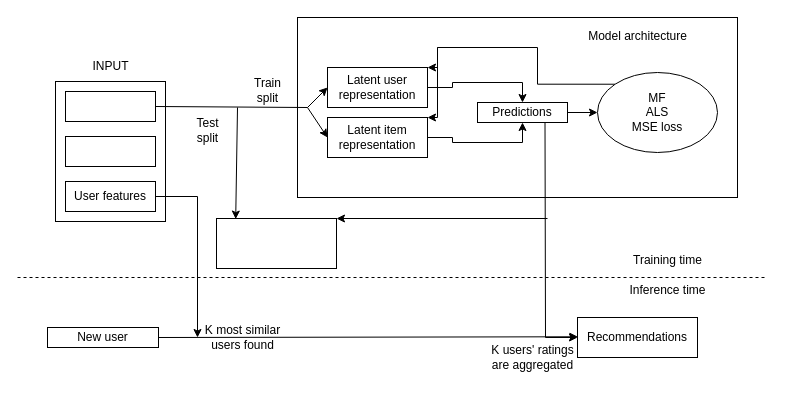
Image size: 786x395. Some labels were removed from this diagram. The centre of each missing label's shape, as x and y in pixels:
Item features: pixel 110 151
Matrix of ratings: pixel 110 106
Model Evaluation: pixel 276 243
